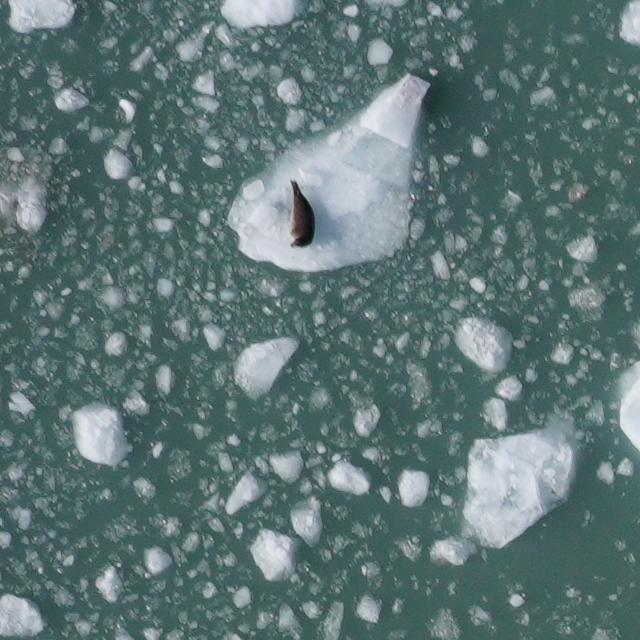seal: (284, 173, 319, 250)
